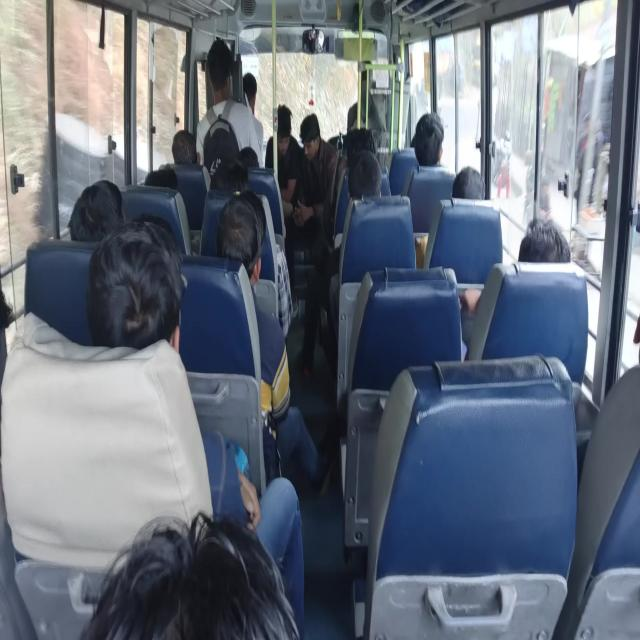person: (150, 499, 394, 640), (96, 223, 215, 372), (610, 282, 640, 450), (526, 216, 578, 309), (0, 266, 35, 392), (75, 181, 120, 253), (223, 192, 262, 272), (352, 142, 386, 214), (205, 43, 243, 107), (171, 117, 209, 175), (147, 149, 181, 203), (342, 120, 384, 160), (214, 151, 248, 200), (412, 118, 442, 173), (458, 161, 488, 213), (300, 114, 322, 162), (238, 66, 261, 110), (274, 111, 294, 156), (400, 125, 427, 156), (234, 144, 252, 167)
